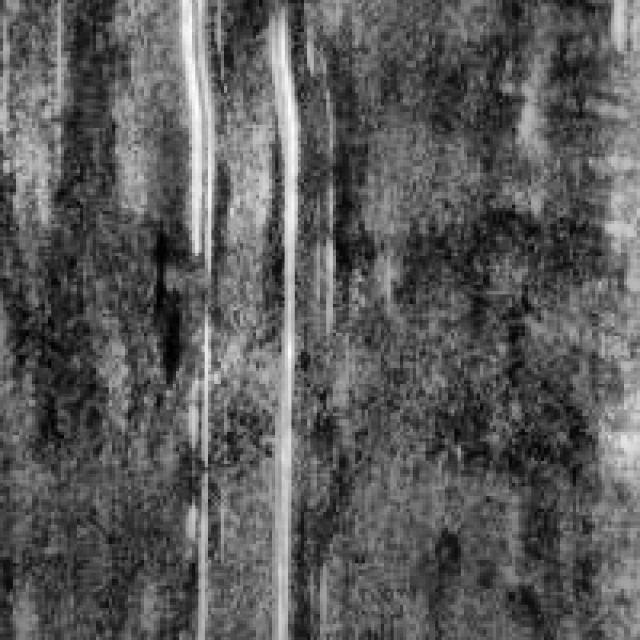Inclusion: (246, 3, 304, 634), (160, 0, 221, 259)
